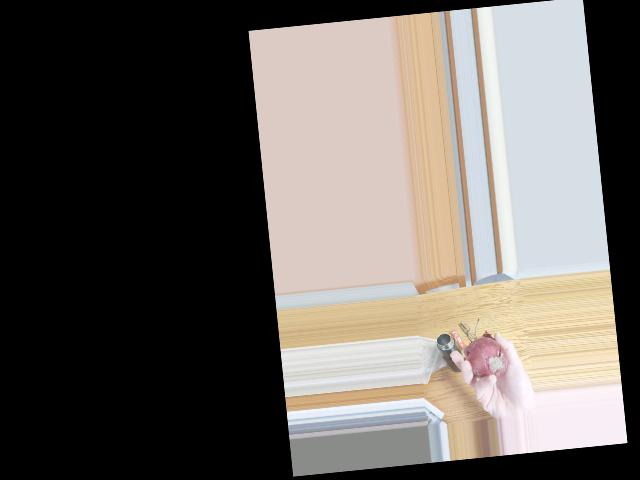onion: (465, 339, 510, 381)
